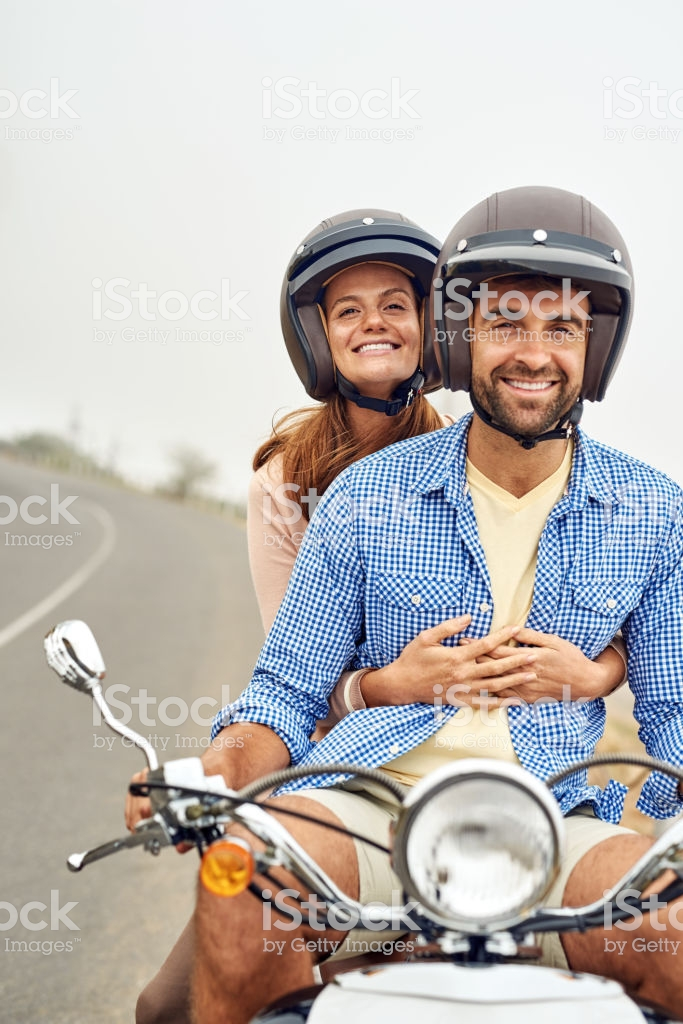helmet: (416, 196, 648, 425), (261, 193, 442, 398)
